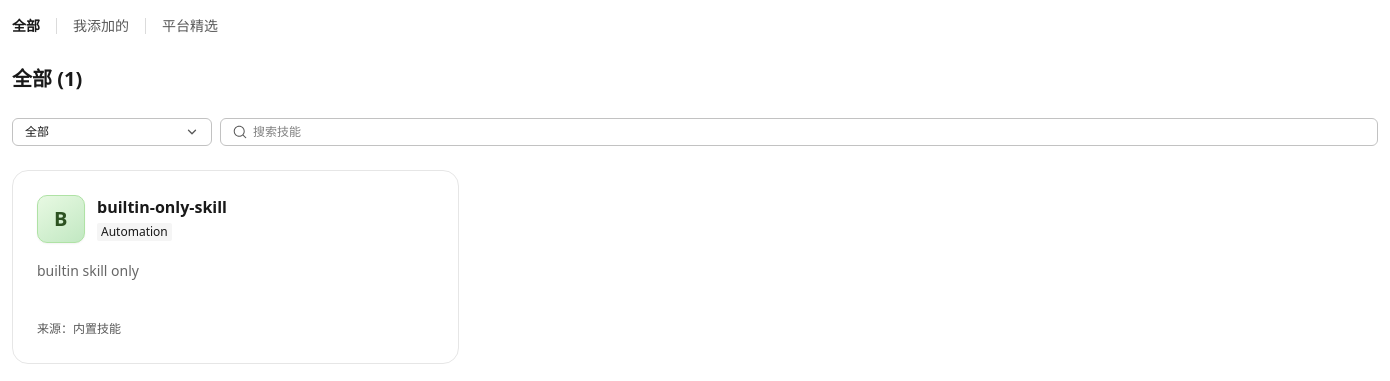
Test: business theme hub shell › skill source tabs and category dropdown › shows platform tab even when only builtin skills exist
Click the button "平台精选" at (190,26), box x1=162 y1=12 x2=218 y2=40
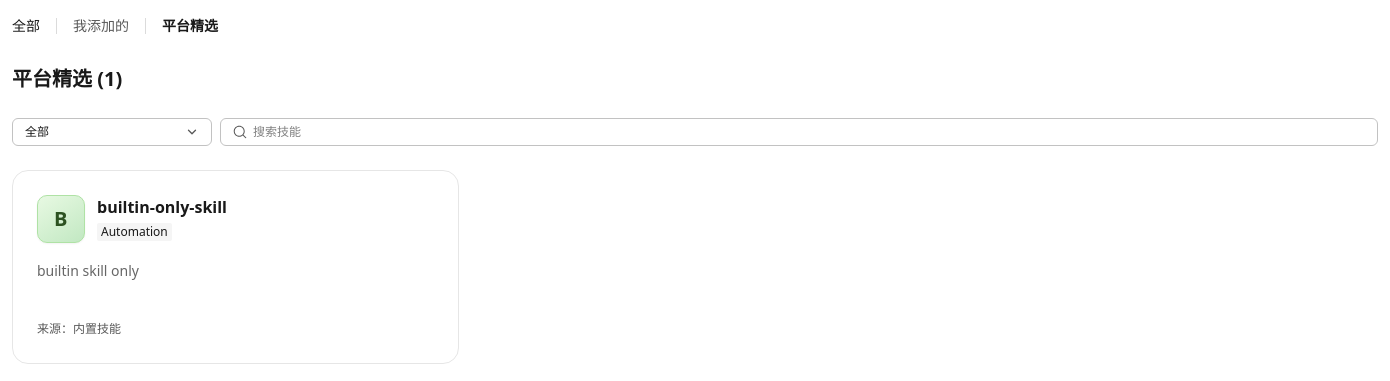
Expected: the text "builtin-only-skill" is shown, x1=97 y1=196 x2=227 y2=218
Result: the text "平台精选 (1)" is shown at x1=12 y1=64 x2=122 y2=94
